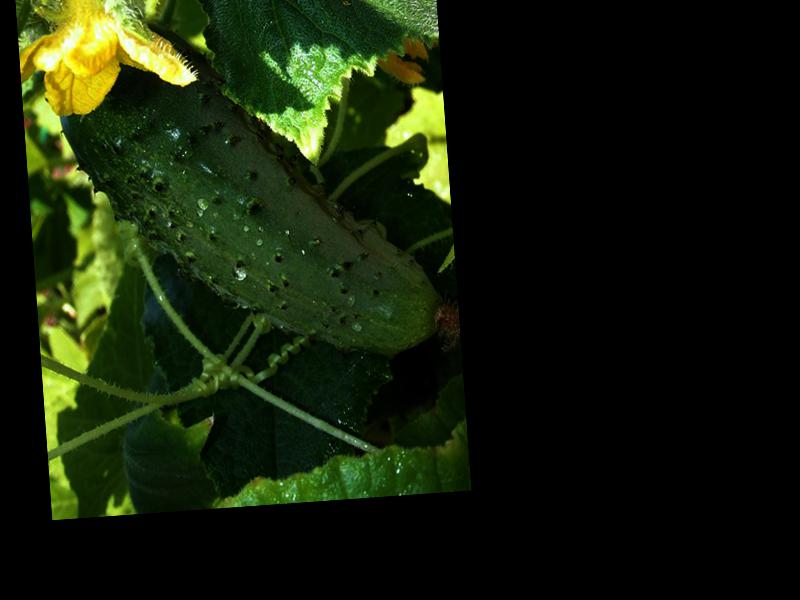Cucumber: (53, 2, 460, 378)
